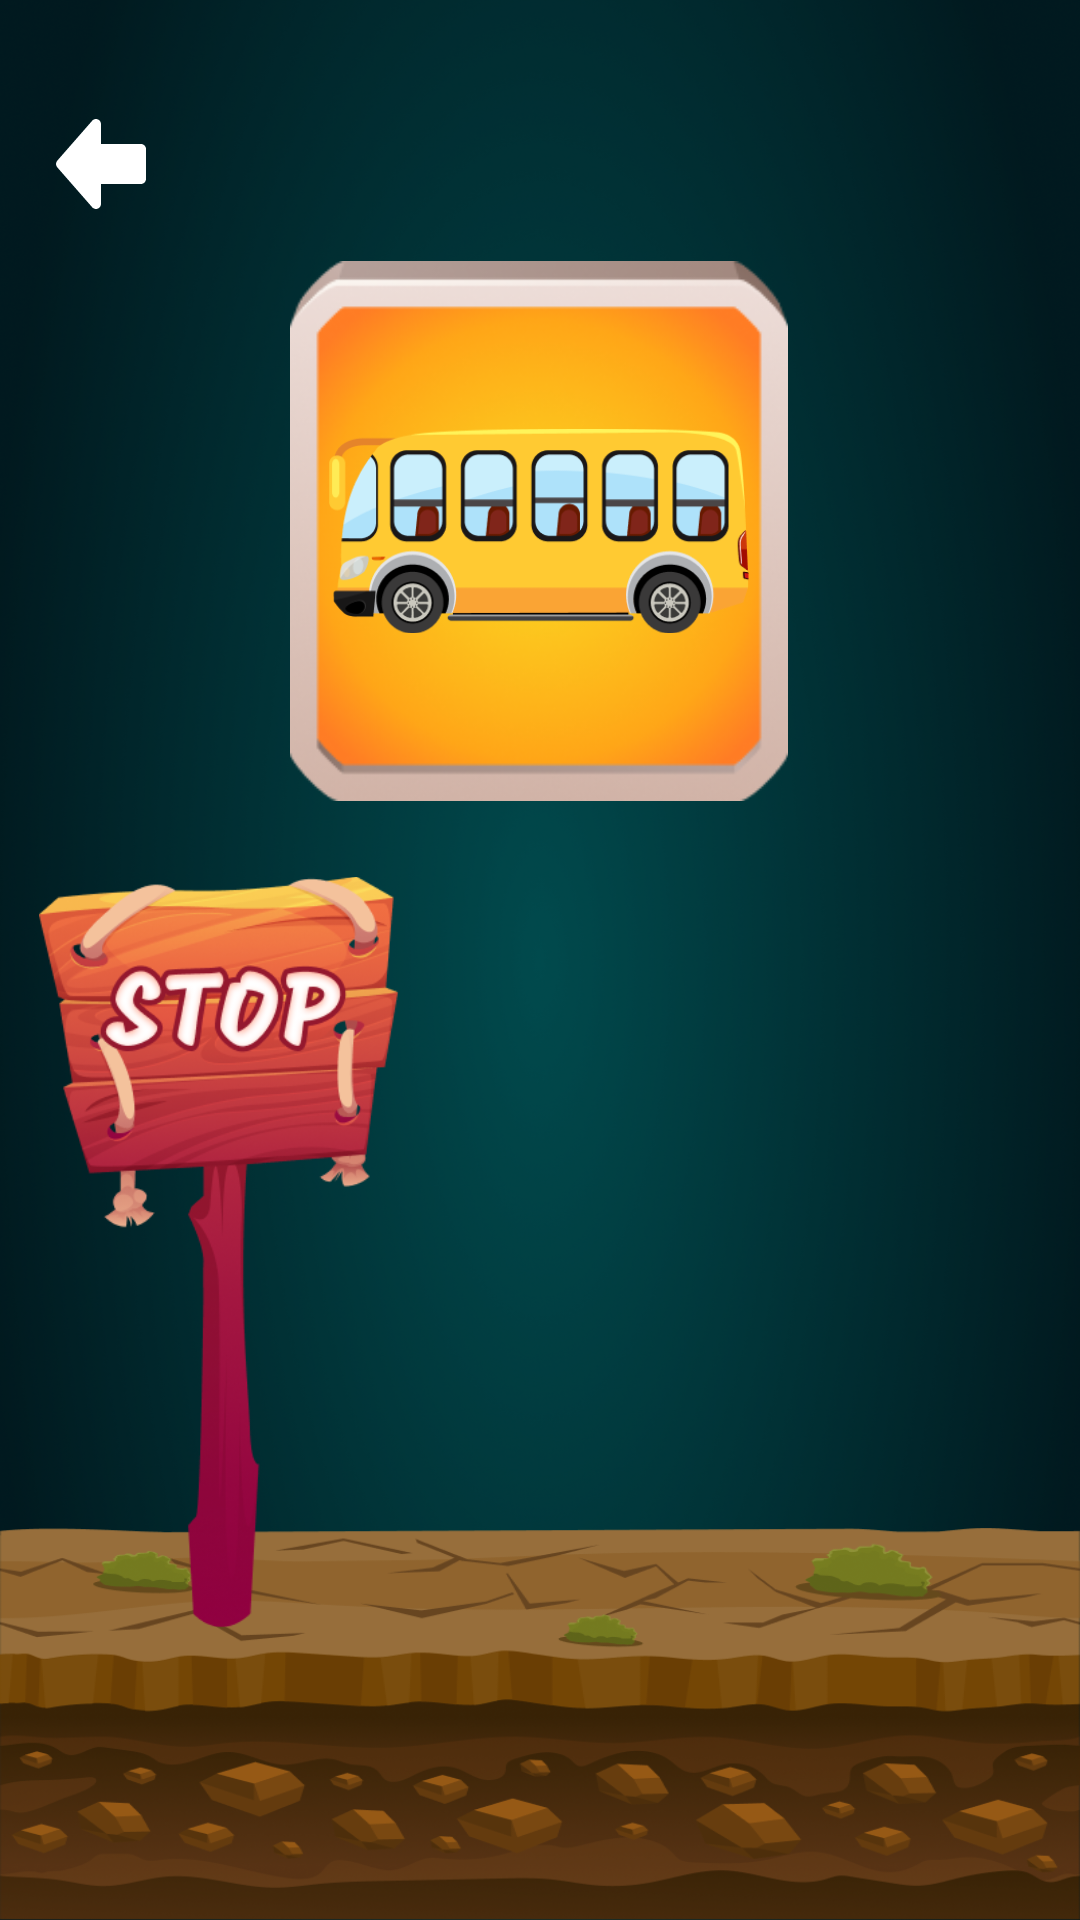

Icon click points for this 1080 × 1920 phone screenshot, format point (x, y):
back: point (101, 164)
